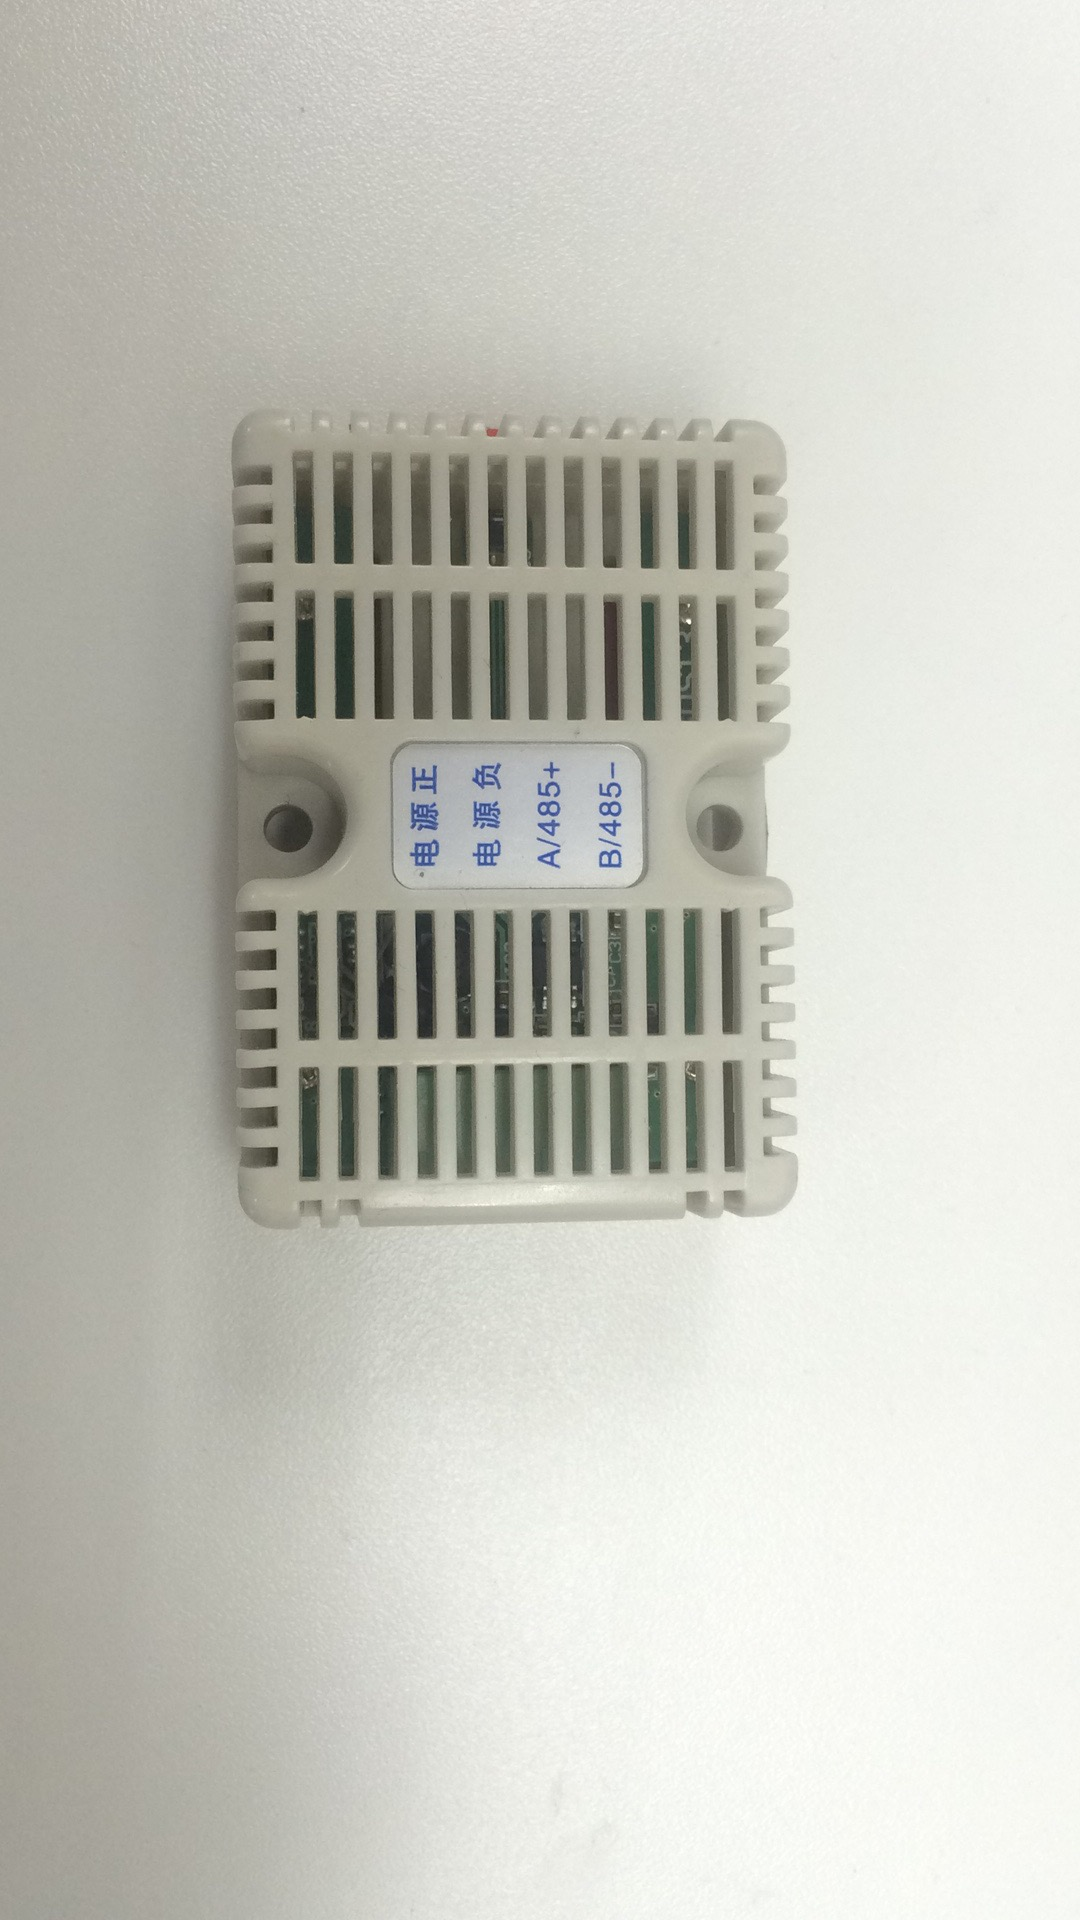temperature: (218, 402, 808, 1240)
